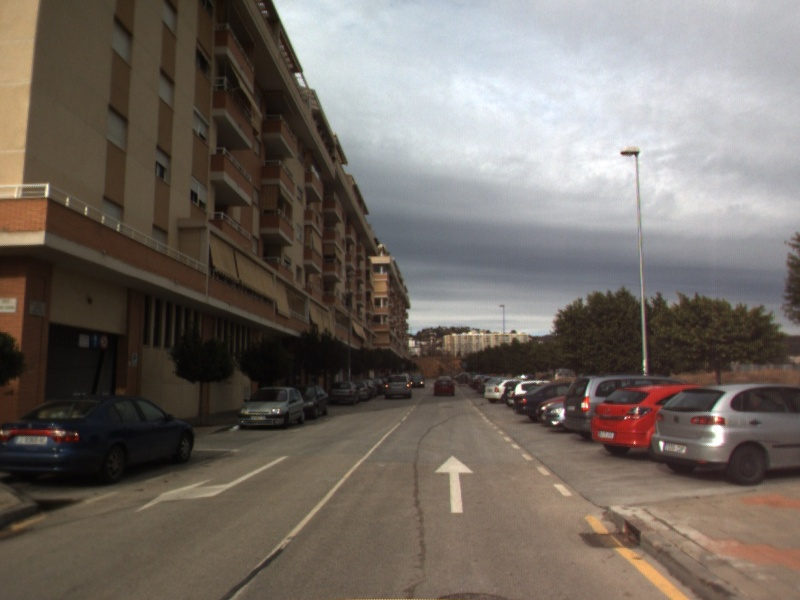STRAIGHT: (432, 453, 476, 515)
